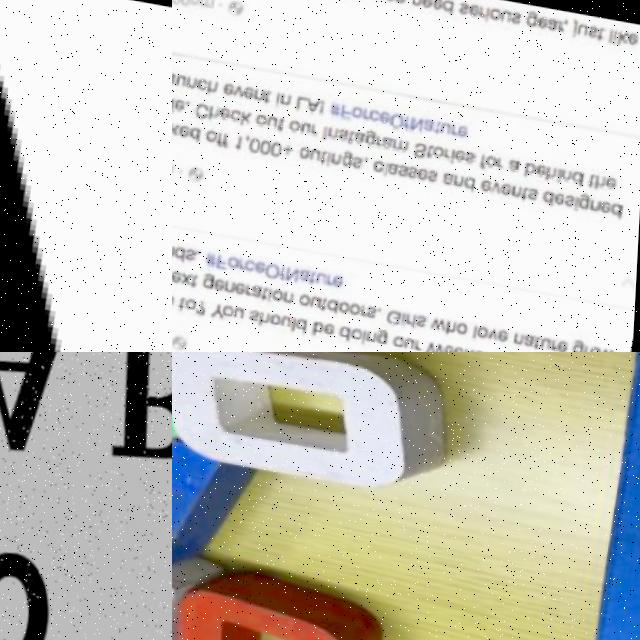0: (0, 534, 77, 640), (250, 133, 263, 150), (260, 135, 273, 152), (271, 137, 284, 153), (178, 0, 191, 5)
1: (234, 130, 243, 147)
A: (306, 93, 322, 110), (546, 7, 559, 23), (355, 124, 367, 140), (383, 129, 395, 145), (509, 149, 520, 165), (254, 280, 266, 294), (423, 111, 435, 125), (389, 155, 399, 170), (527, 323, 536, 339), (301, 264, 312, 277), (445, 165, 456, 178), (172, 67, 177, 82)
B: (314, 316, 327, 333), (526, 154, 539, 171)
C: (194, 98, 212, 118), (231, 104, 243, 120), (369, 101, 381, 117), (197, 74, 210, 88), (247, 255, 258, 269), (375, 154, 386, 167)
D: (610, 193, 625, 210), (543, 182, 558, 198), (464, 169, 477, 186), (343, 319, 355, 336), (330, 293, 342, 310), (176, 243, 188, 260), (190, 124, 202, 141), (298, 313, 310, 329), (573, 161, 584, 177), (441, 0, 454, 10), (497, 346, 510, 352), (172, 94, 175, 111)
E: (219, 102, 233, 118), (535, 6, 549, 22), (175, 95, 188, 111), (243, 82, 257, 96), (501, 319, 513, 335), (180, 120, 192, 136), (602, 189, 614, 205), (627, 21, 639, 37), (172, 266, 185, 280), (223, 79, 237, 92), (607, 166, 619, 181), (537, 154, 548, 170), (482, 171, 494, 185), (380, 104, 392, 118), (456, 141, 467, 156), (216, 275, 228, 288), (418, 161, 430, 174), (327, 317, 338, 331), (457, 338, 468, 352), (238, 277, 249, 291), (561, 330, 572, 344), (502, 174, 513, 188), (556, 183, 567, 197), (459, 116, 470, 130), (476, 340, 488, 352), (447, 337, 458, 350), (258, 256, 269, 269), (336, 269, 347, 282), (468, 0, 479, 10), (432, 0, 443, 4)
F: (219, 250, 231, 267), (342, 98, 353, 115), (217, 127, 226, 144), (480, 146, 489, 163), (403, 108, 412, 125), (282, 262, 290, 278), (223, 130, 231, 145)
G: (523, 1, 540, 21), (379, 320, 394, 340), (388, 303, 405, 320), (204, 267, 217, 287), (364, 124, 379, 141), (343, 145, 355, 162), (581, 184, 593, 201), (577, 329, 587, 346)
H: (262, 306, 275, 323), (546, 158, 559, 175), (594, 165, 607, 182), (207, 76, 220, 93), (449, 313, 461, 330), (209, 101, 221, 118)
I: (326, 145, 335, 162), (449, 141, 458, 158), (274, 88, 283, 105), (483, 0, 492, 15), (610, 20, 618, 36), (322, 120, 329, 138), (364, 324, 371, 340), (403, 306, 410, 322), (575, 187, 582, 203), (557, 158, 564, 174), (269, 283, 275, 298)
J: (569, 8, 578, 30)
K: (241, 106, 254, 123), (617, 20, 628, 37), (465, 340, 478, 352), (172, 120, 181, 137)
L: (296, 91, 311, 108), (473, 317, 482, 333), (414, 307, 421, 323), (384, 156, 391, 172), (293, 312, 299, 327), (608, 20, 614, 34)
M: (392, 132, 412, 147), (198, 0, 214, 5), (172, 158, 176, 171)
N: (288, 260, 303, 280), (410, 110, 426, 127), (455, 165, 467, 181), (328, 120, 340, 136), (332, 147, 344, 161), (511, 176, 523, 190), (254, 84, 266, 97), (286, 286, 297, 300), (281, 88, 292, 102), (370, 325, 381, 339), (227, 277, 238, 290), (516, 324, 527, 337), (563, 160, 574, 173), (187, 73, 198, 86), (592, 190, 601, 204), (486, 343, 498, 352), (172, 241, 176, 255)
O: (172, 567, 414, 640), (268, 259, 283, 276), (390, 107, 405, 124), (352, 296, 365, 312), (340, 295, 354, 309), (229, 252, 243, 266), (298, 141, 312, 155), (188, 294, 201, 307), (289, 115, 302, 128), (273, 309, 285, 323), (355, 323, 367, 337), (395, 329, 409, 341), (459, 315, 471, 329), (481, 318, 493, 332), (206, 126, 218, 140), (257, 109, 269, 123), (487, 147, 499, 161), (302, 289, 314, 302), (488, 0, 500, 13), (226, 301, 237, 315), (275, 284, 286, 298), (434, 138, 445, 152), (353, 100, 364, 113), (595, 336, 605, 349)
P: (172, 287, 178, 304)
Q: (172, 352, 462, 499)
R: (329, 267, 337, 281), (445, 140, 453, 154), (248, 280, 256, 293), (409, 305, 417, 318), (377, 129, 385, 142), (557, 10, 565, 23), (364, 102, 372, 114), (418, 332, 425, 345), (364, 299, 371, 312), (586, 336, 593, 349), (242, 254, 249, 267), (499, 149, 506, 162), (554, 329, 561, 342), (452, 117, 460, 128), (313, 119, 320, 131), (478, 0, 486, 10)
S: (414, 134, 431, 152), (353, 149, 365, 165), (339, 122, 351, 138), (510, 2, 522, 17), (567, 183, 577, 200), (187, 245, 199, 259), (409, 159, 420, 174), (400, 157, 410, 173), (251, 306, 263, 319), (529, 179, 540, 193), (467, 143, 478, 157), (429, 163, 440, 176), (420, 308, 430, 322), (588, 15, 597, 30), (370, 300, 380, 313), (458, 0, 469, 7)
T: (523, 178, 532, 194), (349, 124, 358, 140), (427, 137, 436, 153), (321, 144, 329, 161), (194, 271, 202, 287), (323, 292, 331, 308), (536, 326, 544, 342), (278, 112, 286, 128), (264, 282, 272, 297), (589, 164, 597, 179), (264, 86, 272, 101), (597, 18, 605, 33), (182, 293, 189, 309), (311, 265, 318, 281), (435, 114, 442, 129)
U: (544, 327, 556, 341), (176, 71, 188, 85), (237, 302, 249, 315), (319, 267, 331, 280), (267, 111, 279, 124), (284, 309, 295, 323), (407, 330, 418, 344), (313, 290, 324, 304), (312, 143, 323, 157), (500, 1, 511, 15), (577, 14, 588, 28), (302, 117, 313, 130), (442, 114, 451, 128)
V: (490, 319, 502, 334), (492, 173, 504, 187), (234, 80, 245, 94)
W: (428, 334, 450, 352), (603, 337, 620, 352), (434, 310, 450, 325)
X: (184, 269, 195, 283)
Y: (0, 0, 172, 352), (214, 299, 229, 316)
